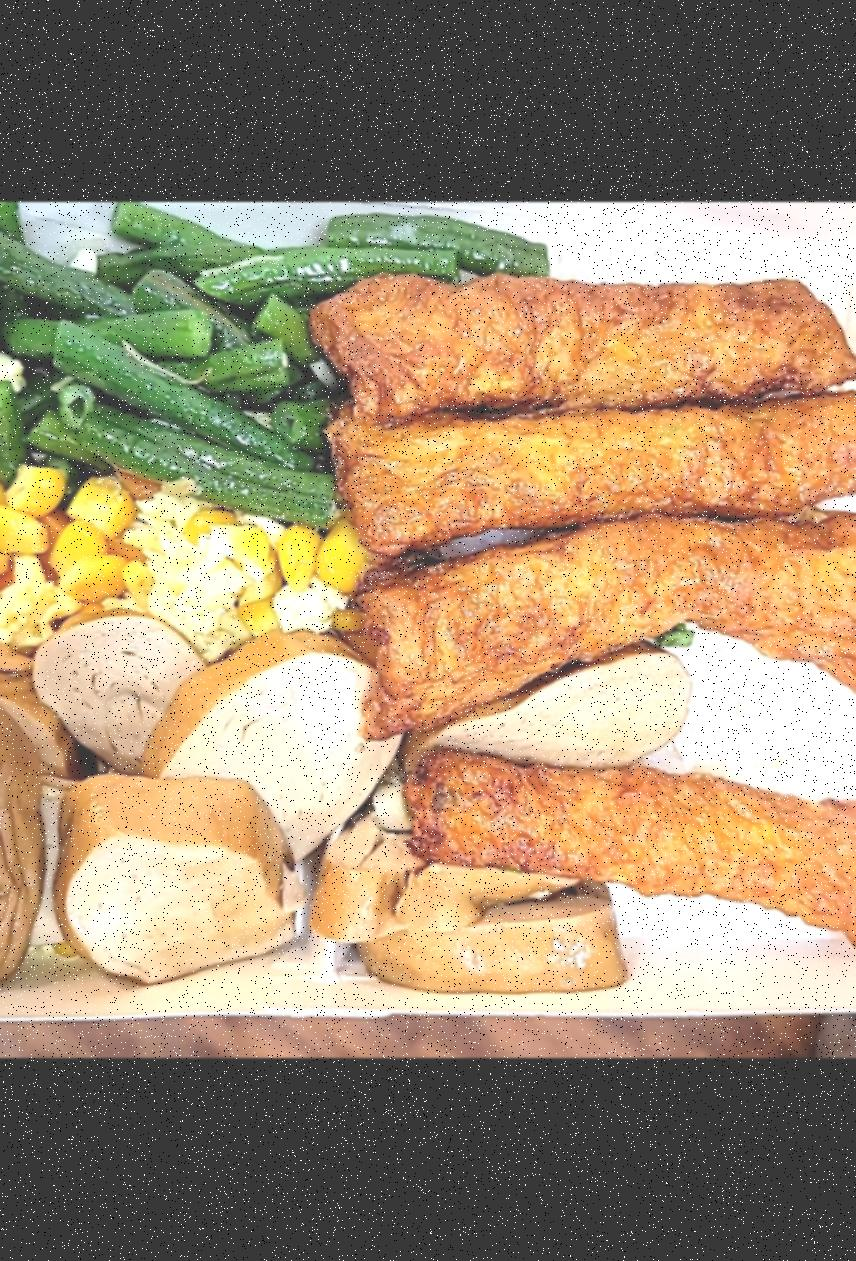box: (0, 203, 856, 1043)
shrimp rolls: (332, 243, 856, 943)
side dish: (0, 649, 689, 983), (0, 226, 373, 512), (0, 471, 340, 658)
white rice: (442, 301, 856, 821)
